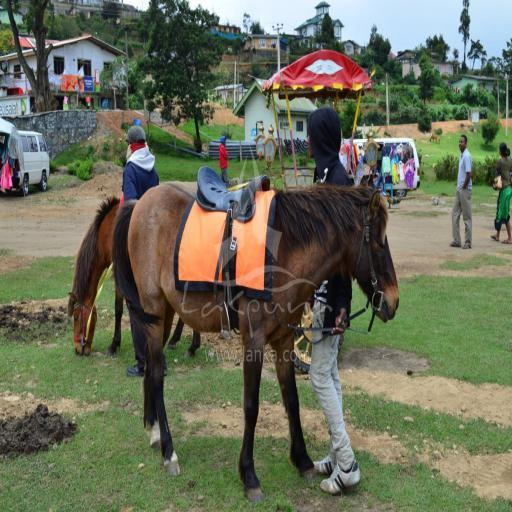horse: (110, 176, 400, 506), (65, 192, 202, 358)
